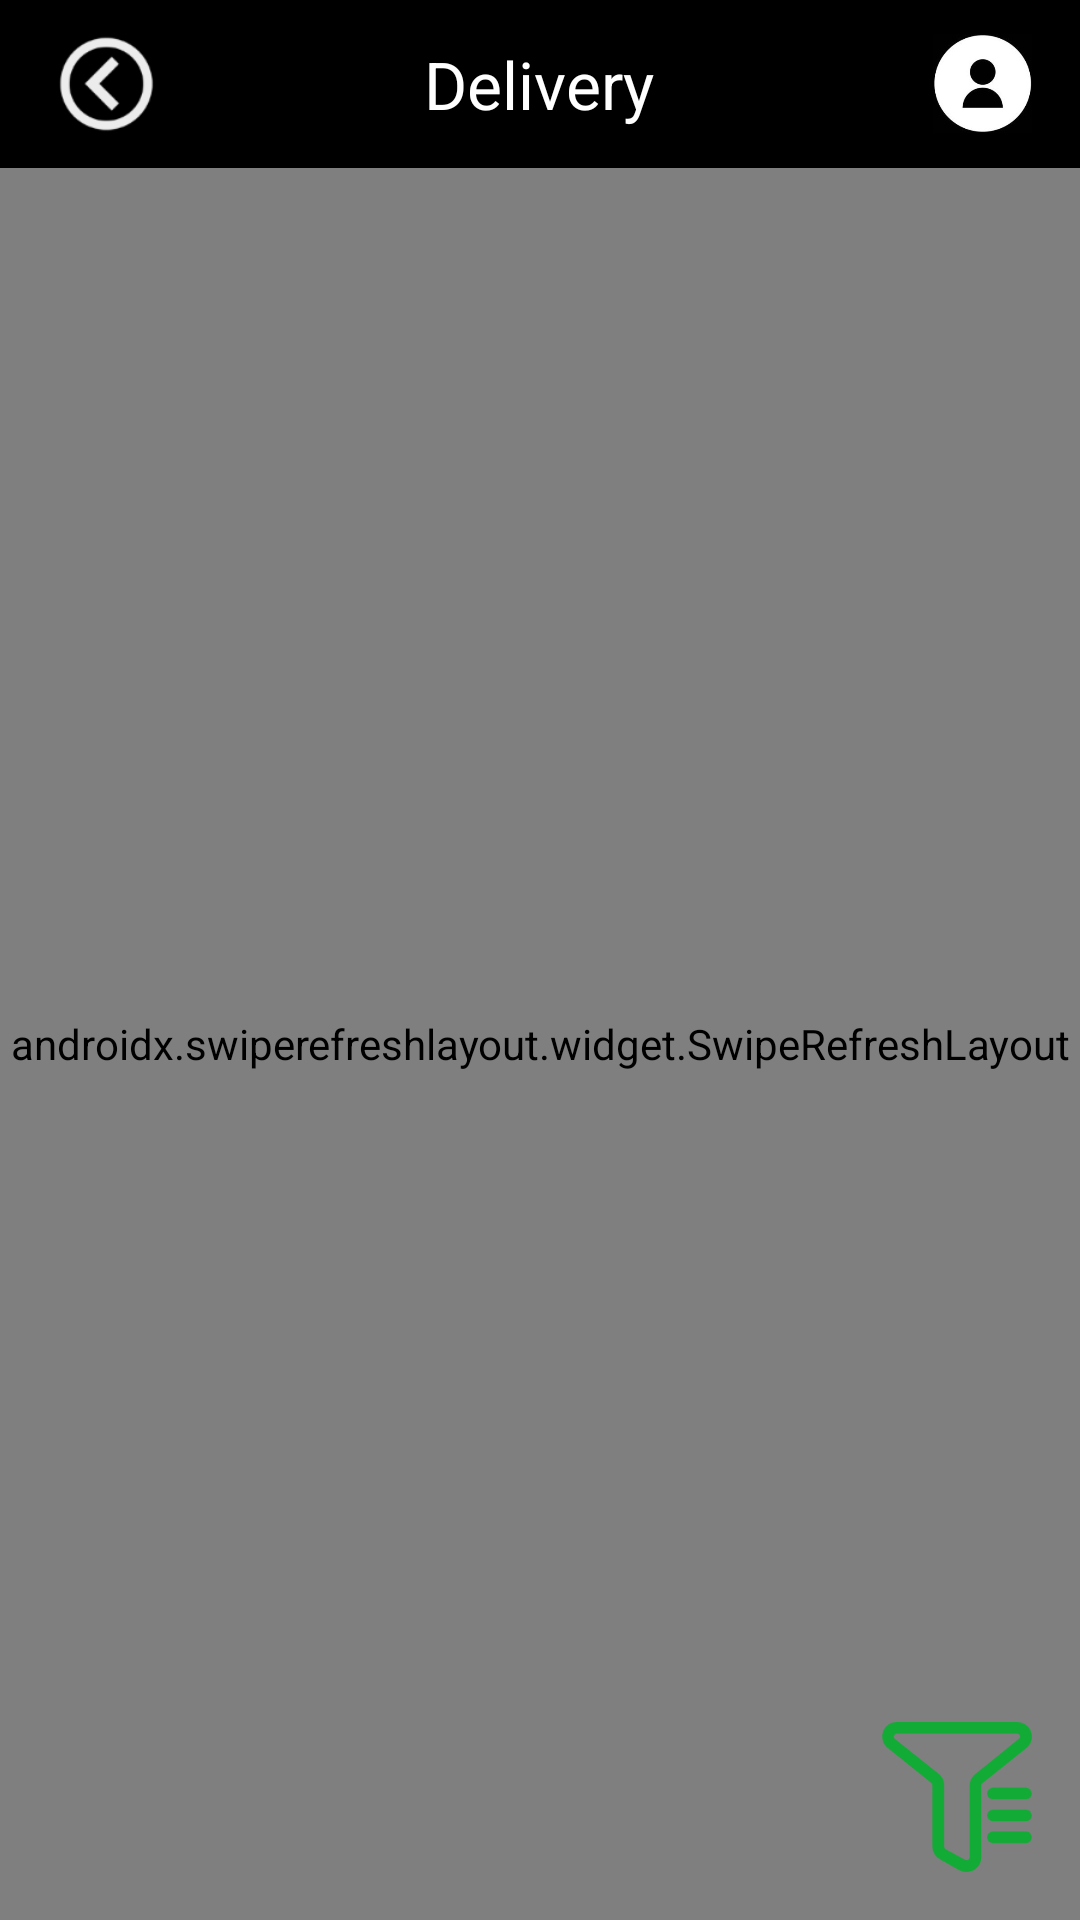

Icon click points for this 1080 × 1920 phone screenshot, format (x,y):
account: (982,83)
back: (106,84)
filter: (957,1797)
